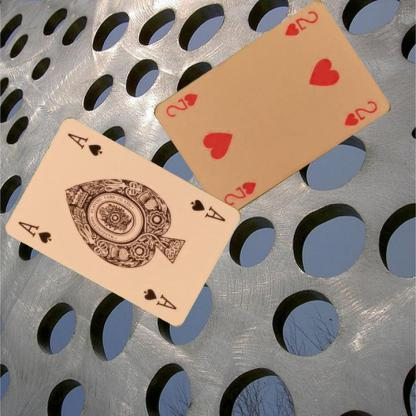2h: (282, 8, 319, 38), (220, 179, 258, 208)
As: (188, 196, 227, 223), (16, 218, 53, 245)
